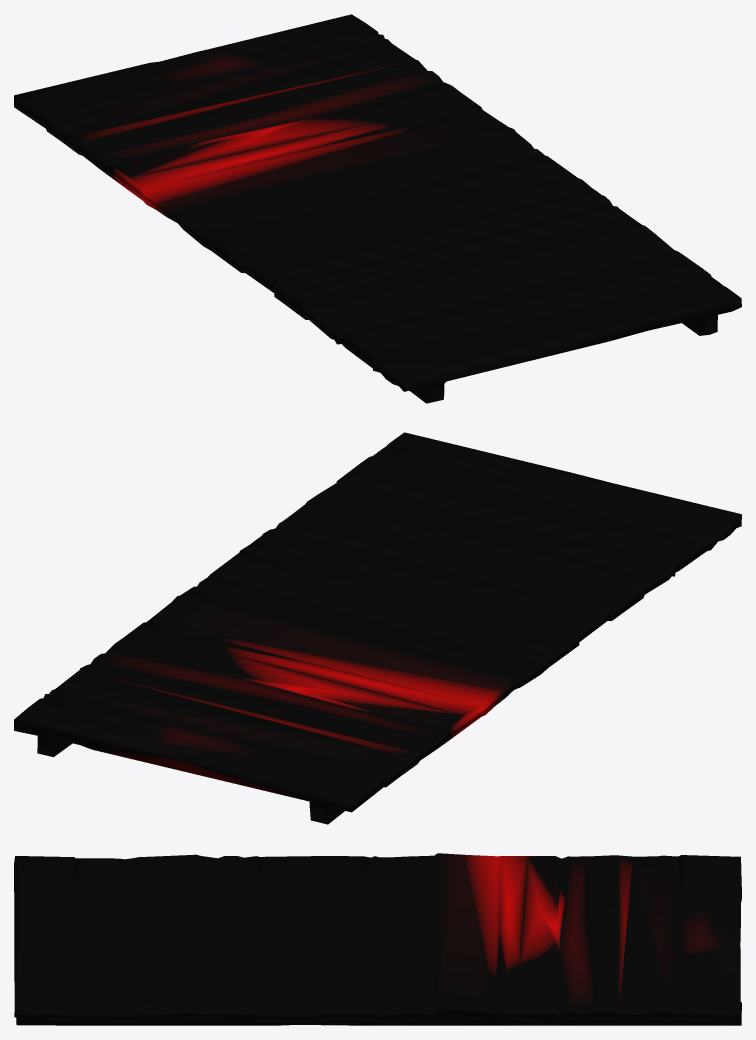
The model's file is SM_Wood_Floor_FullxHalf_LP.fbx.
3 renders of one model, top to bottom at view 1: azimuth 30°, elevation 25°; view 2: azimuth 150°, elevation 25°; view 3: azimuth 270°, elevation 25°, orthographic. The views are drawn at different scales.
Visible parts, largest first — view 1: SM_Wood_Floor_FullxHalf_LP_LOD0; view 2: SM_Wood_Floor_FullxHalf_LP_LOD0; view 3: SM_Wood_Floor_FullxHalf_LP_LOD0.
Boxes of the visible parts, <box> form: SM_Wood_Floor_FullxHalf_LP_LOD0: <box>14,14,741,403</box>; SM_Wood_Floor_FullxHalf_LP_LOD0: <box>14,432,741,824</box>; SM_Wood_Floor_FullxHalf_LP_LOD0: <box>14,853,741,1025</box>.
Size of the model in its own units: 102 by 202 by 9.28.
